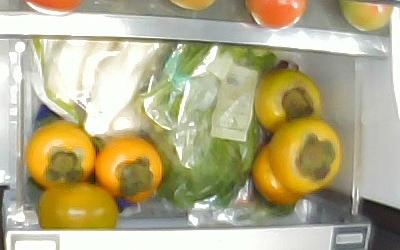persimmon: (270, 119, 341, 190), (255, 68, 324, 136), (25, 123, 95, 189), (94, 138, 161, 202), (39, 181, 118, 229)
